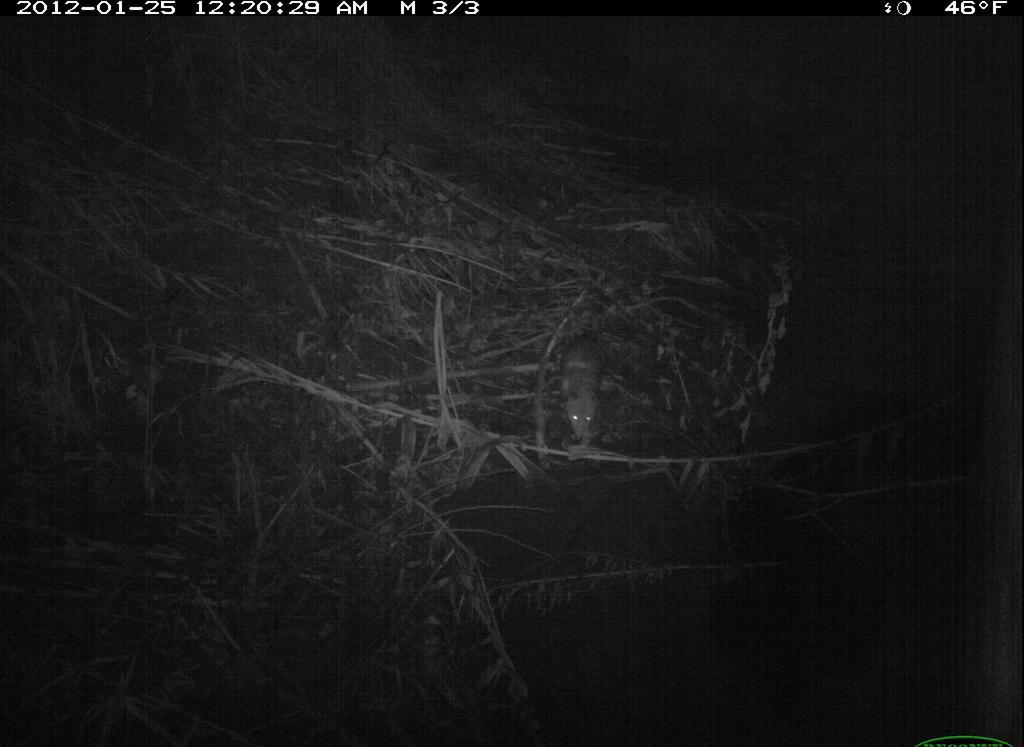opossum: (542, 318, 620, 465)
